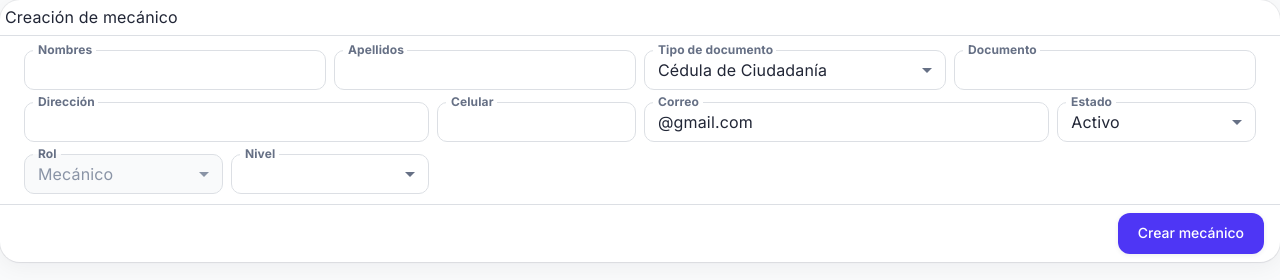
it: FormularioCrearMecanico › valida campos, celular de 10 dígitos y correo antes de crear
Click the button "Crear mecánico" at x=1191, y=233, box [1118,213,1264,254]
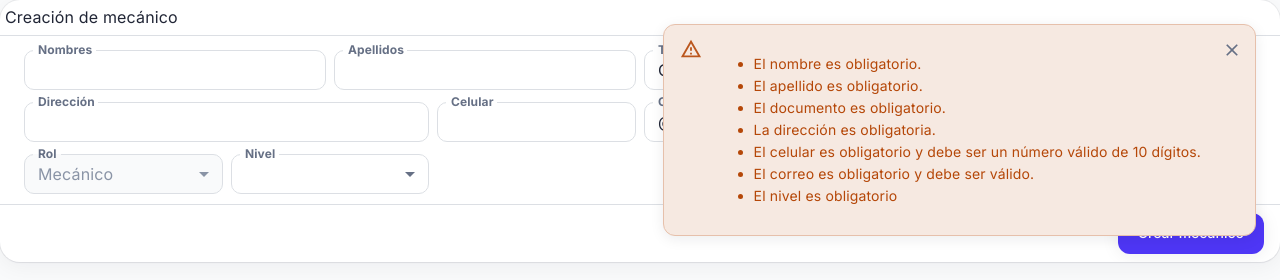
Check: the list item "El nombre es obligatorio." is shown, box [754,55,922,72]
Check: the list item "El apellido es obligatorio." is shown, box [754,77,923,94]
Check: the list item "El documento es obligatorio." is shown, box [754,99,946,116]
